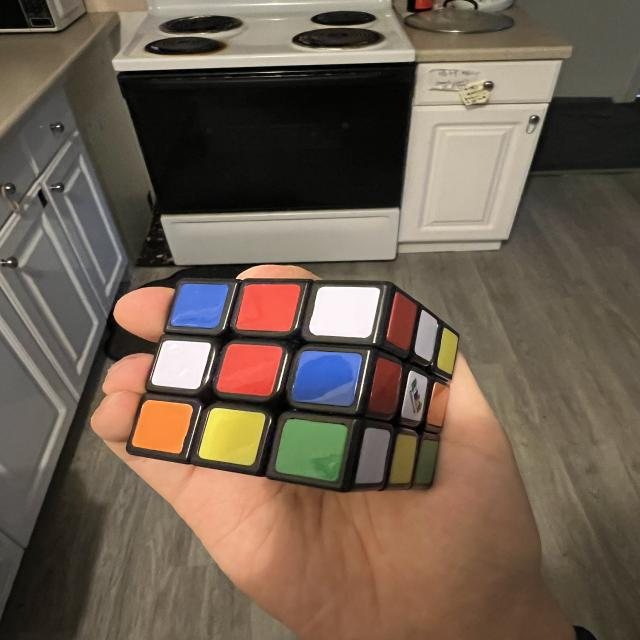blue: (291, 349, 362, 407), (169, 282, 228, 329)
center: (215, 341, 283, 398), (400, 370, 430, 423)
green: (273, 413, 349, 484), (412, 438, 440, 490)
orange: (131, 393, 194, 459), (425, 382, 451, 428)
red: (236, 282, 300, 333), (366, 357, 406, 419), (384, 291, 420, 351)
white: (308, 282, 380, 340), (148, 335, 212, 393), (354, 426, 393, 490), (412, 310, 440, 362)
yellow: (197, 404, 266, 468), (388, 432, 419, 489), (435, 327, 459, 375)
